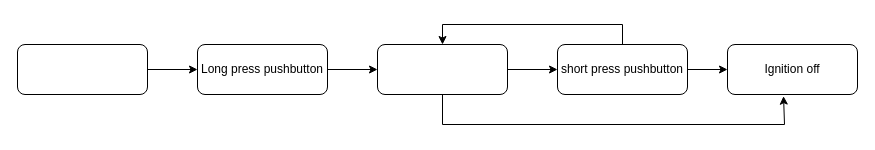
This 875x150 diagram has some shape labels left out. Each missing label, with the box of its shape:
Ignition on: (16, 44, 148, 94)
LED blinking: (376, 44, 508, 94)
